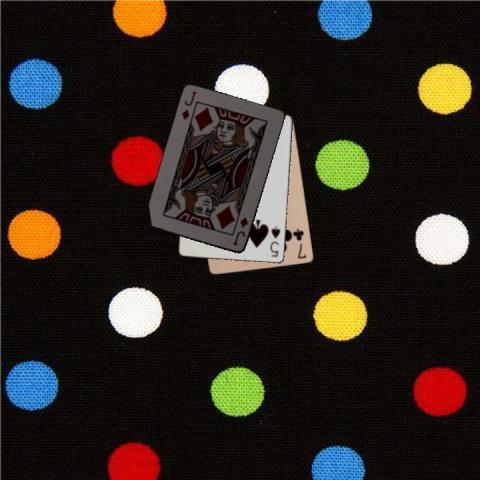5s: (268, 223, 282, 259)
7c: (292, 226, 308, 260)
Jd: (230, 214, 250, 247), (179, 88, 198, 121)
